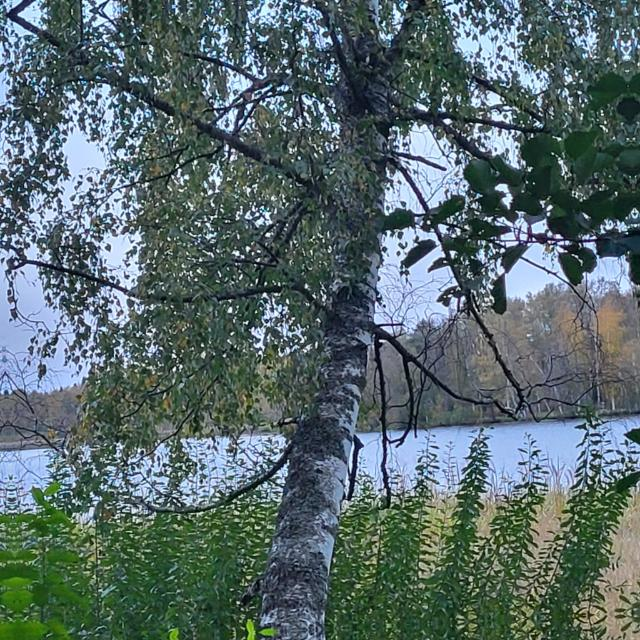birch: (194, 0, 456, 640)
